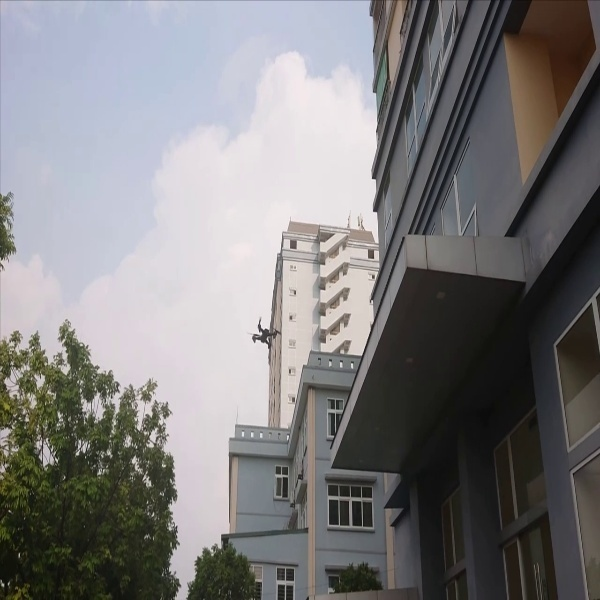drone: (248, 311, 284, 350)
